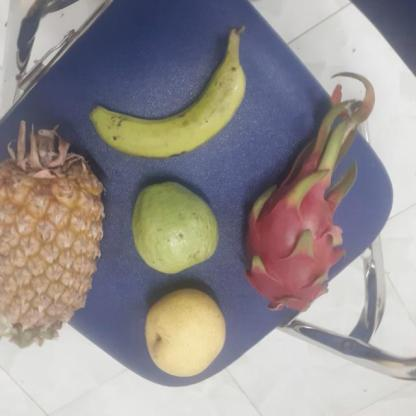banana: (101, 50, 256, 156)
guava: (132, 181, 224, 271)
pear: (142, 288, 230, 374)
pineapple: (0, 128, 105, 346)
pitaya: (240, 175, 350, 313)
